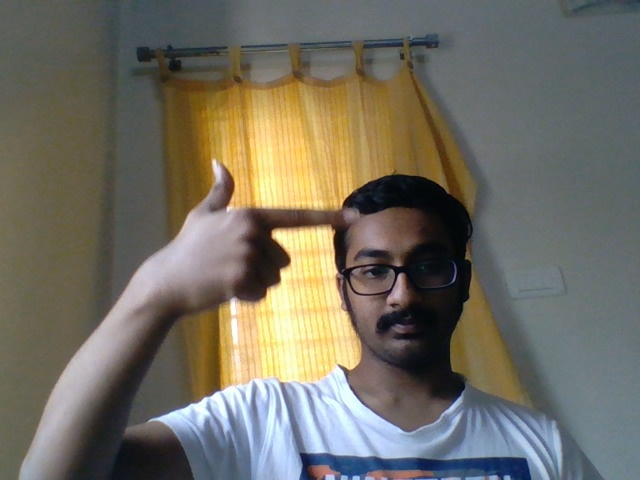yes: (116, 141, 358, 325)
